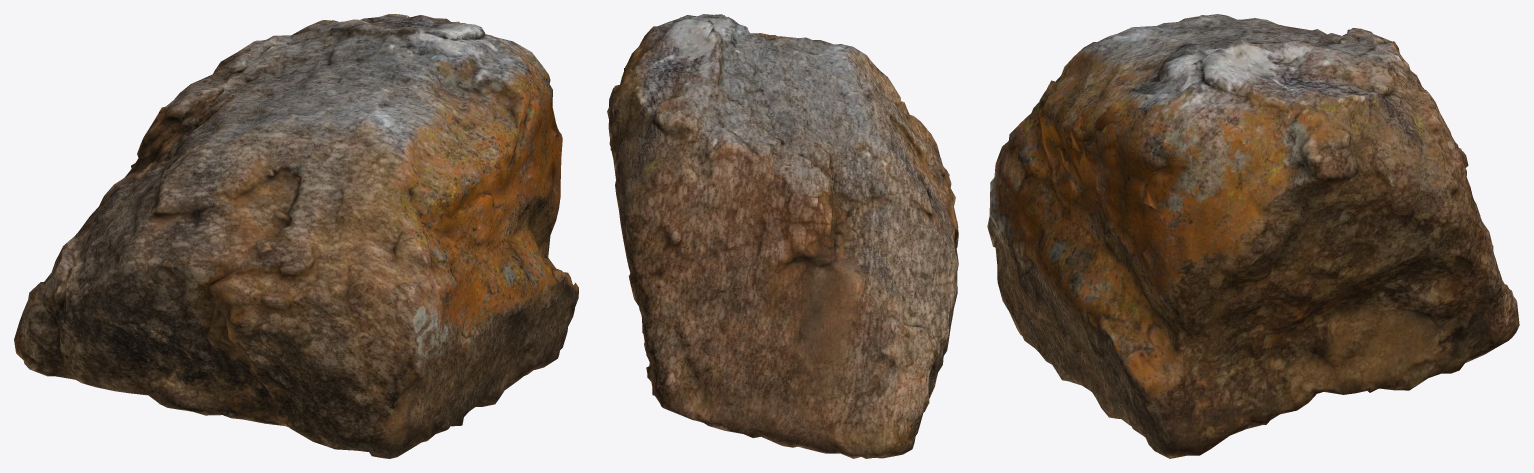
Rendered from namaqualand_boulder_04.glb.
3 renders of one model, left to right at view 1: azimuth 30°, elevation 25°; view 2: azimuth 150°, elevation 25°; view 3: azimuth 270°, elevation 25°, orthographic. The views are drawn at different scales.
Visible parts, largest first — view 1: boulder_04; view 2: boulder_04; view 3: boulder_04.
Part boxes in pixels (x1,y1,x2,y2): boulder_04: [14, 14, 578, 458]; boulder_04: [607, 14, 958, 458]; boulder_04: [987, 14, 1519, 458].
Bounding box in the file's own units: 2.52 × 1.9 × 2.49.
Materials: 1 (1 with a texture image).
